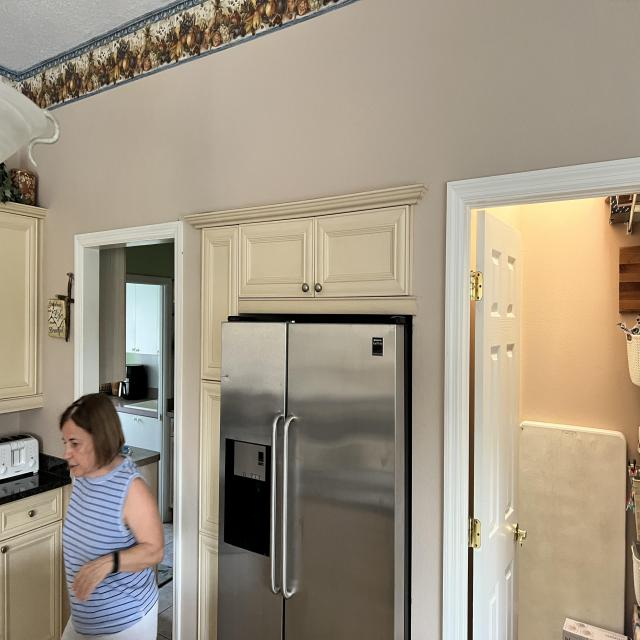Appliance_Fridge: (218, 320, 410, 640)
Cabinet_Raised_Panel: (197, 207, 407, 640), (0, 487, 68, 640), (0, 203, 47, 416)
Countertop_Granite: (0, 453, 71, 505)
